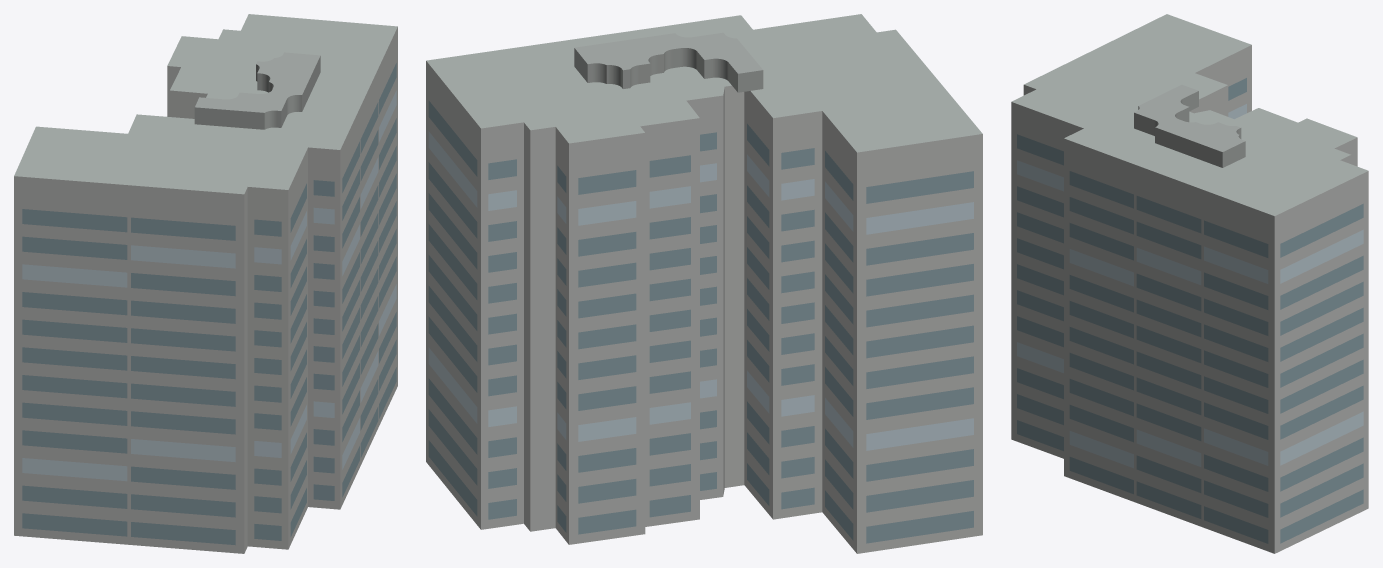
File: fallback-godeok-arteon-333.glb
3 renders of one model, left to right at view 1: azimuth 30°, elevation 25°; view 2: azimuth 150°, elevation 25°; view 3: azimuth 270°, elevation 25°, orthographic. The views are drawn at different scales.
Parts seen in each view (by area): view 1: fallback-godeok-arteon-333; view 2: fallback-godeok-arteon-333; view 3: fallback-godeok-arteon-333.
Part boxes in pixels (x1,y1,x2,y2): fallback-godeok-arteon-333: [14, 14, 397, 553]; fallback-godeok-arteon-333: [426, 14, 982, 553]; fallback-godeok-arteon-333: [1011, 14, 1368, 553].
Size of the model in its own units: 49.07 by 40 by 36.66.
